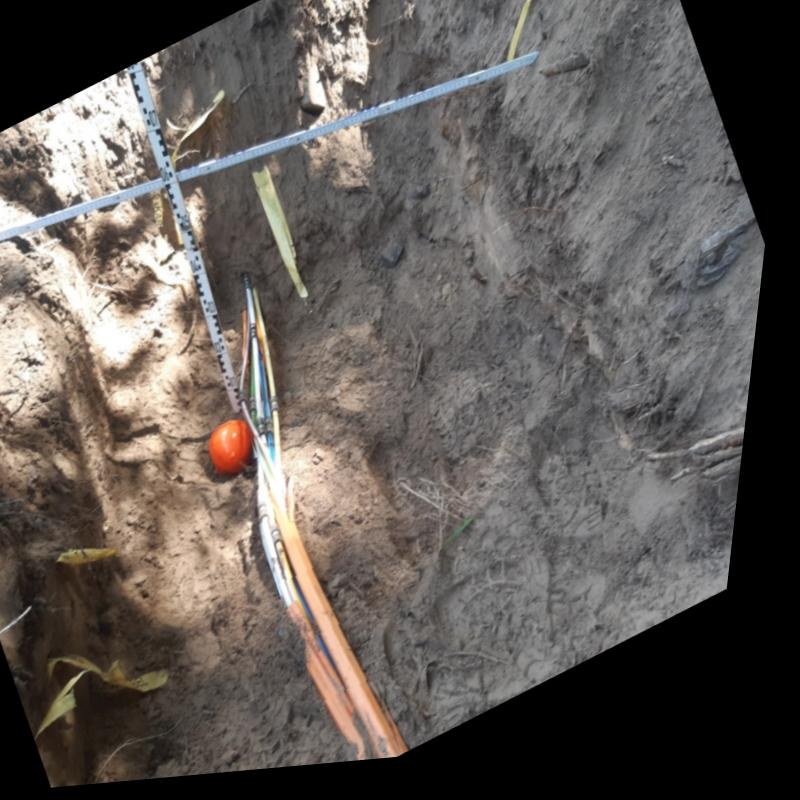Kugelmarker: (221, 423, 264, 480)
Orang-Speednetrohrchen: (271, 496, 422, 767)
